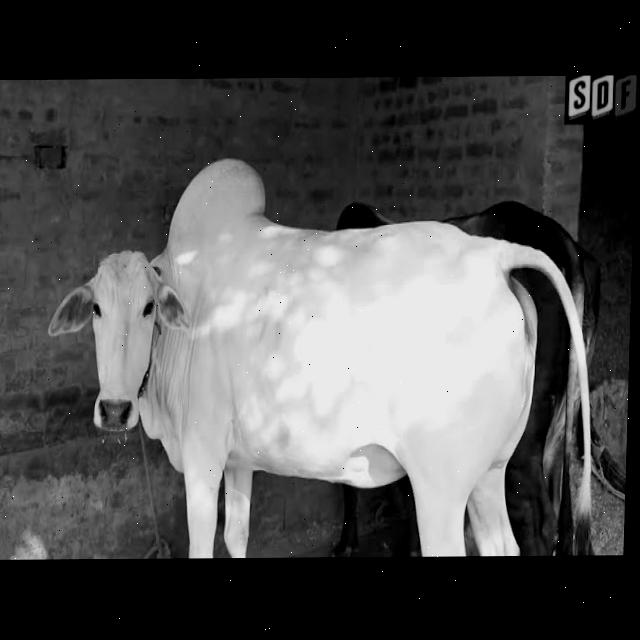Cow: (40, 153, 605, 559)
